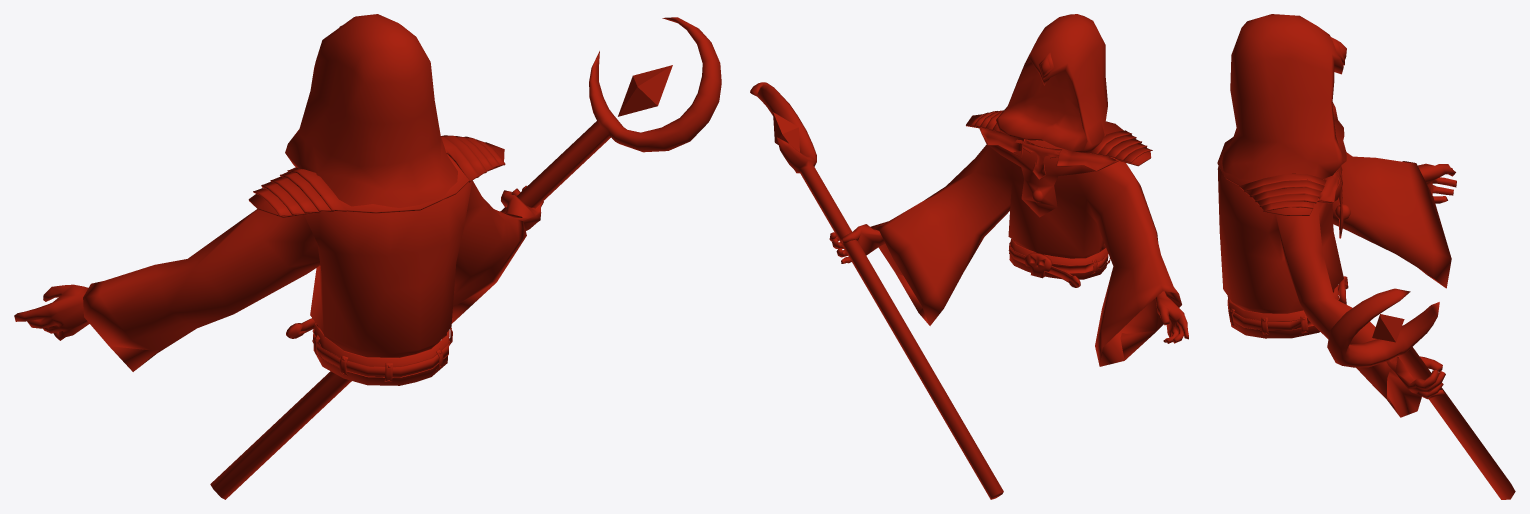
File: top_000054.obj
3 views of the same model, side by side, from view 1: azimuth 30°, elevation 25°; view 2: azimuth 150°, elevation 25°; view 3: azimuth 270°, elevation 25° (orthographic). The views are drawn at different scales.
Visible parts, largest first — view 1: LowPoly_Warlock.000_Plane.005; view 2: LowPoly_Warlock.000_Plane.005; view 3: LowPoly_Warlock.000_Plane.005.
Boxes of the visible parts, x1,y1,x2,y2 form: LowPoly_Warlock.000_Plane.005: (14, 14, 721, 499); LowPoly_Warlock.000_Plane.005: (750, 14, 1188, 499); LowPoly_Warlock.000_Plane.005: (1217, 14, 1515, 499).
Bounding box in the file's own units: 2.12 × 1.76 × 0.9625.
